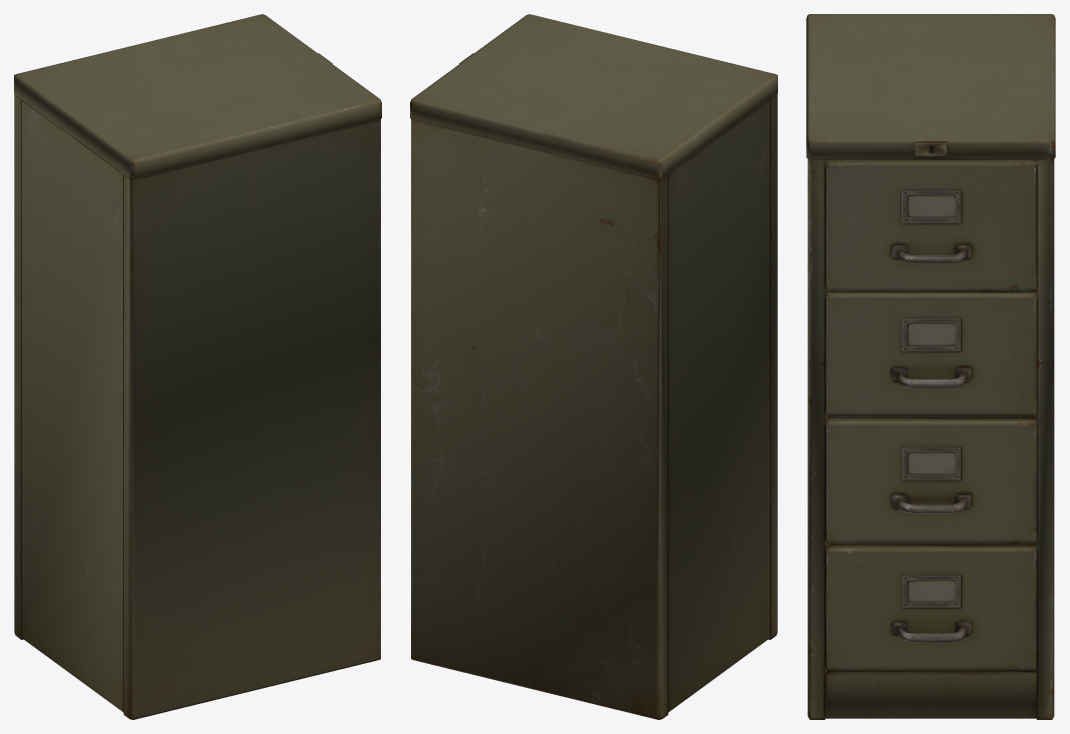
3 renders of one model, left to right at view 1: azimuth 30°, elevation 25°; view 2: azimuth 150°, elevation 25°; view 3: azimuth 270°, elevation 25°, orthographic. The views are drawn at different scales.
Visible parts, largest first — view 1: tripo_node_a568f79c-ac58-46c6-b6af-c600f33fbb7d; view 2: tripo_node_a568f79c-ac58-46c6-b6af-c600f33fbb7d; view 3: tripo_node_a568f79c-ac58-46c6-b6af-c600f33fbb7d.
Boxes of the visible parts, x1,y1,x2,y2 form: tripo_node_a568f79c-ac58-46c6-b6af-c600f33fbb7d: [14, 14, 381, 719]; tripo_node_a568f79c-ac58-46c6-b6af-c600f33fbb7d: [410, 14, 777, 719]; tripo_node_a568f79c-ac58-46c6-b6af-c600f33fbb7d: [806, 14, 1055, 719].
Bounding box in the file's own units: 0.5215 × 0.998 × 0.3887.
1 material, 1 textured.
